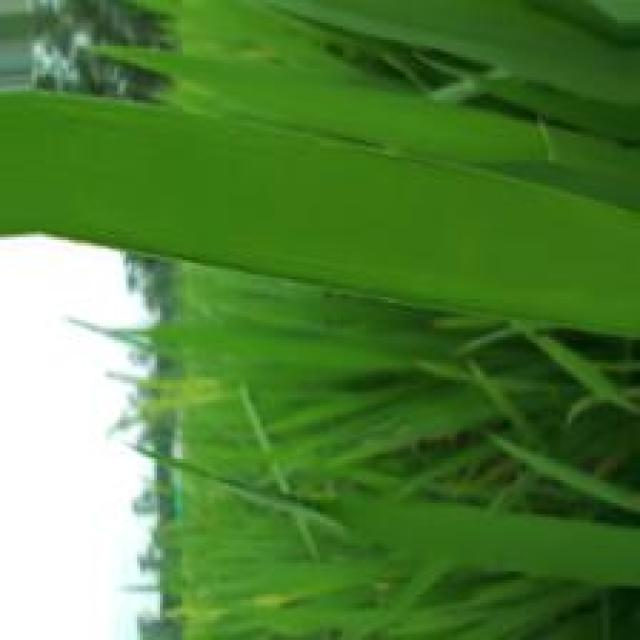HealthyLeaf: (8, 94, 640, 329)
